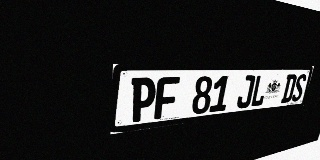1: (209, 76, 231, 112)
8: (191, 76, 214, 115)
D: (280, 74, 298, 103)
F: (154, 77, 180, 120)
J: (236, 75, 256, 109)
L: (250, 75, 269, 107)
P: (129, 77, 157, 123)
S: (291, 74, 307, 102)
